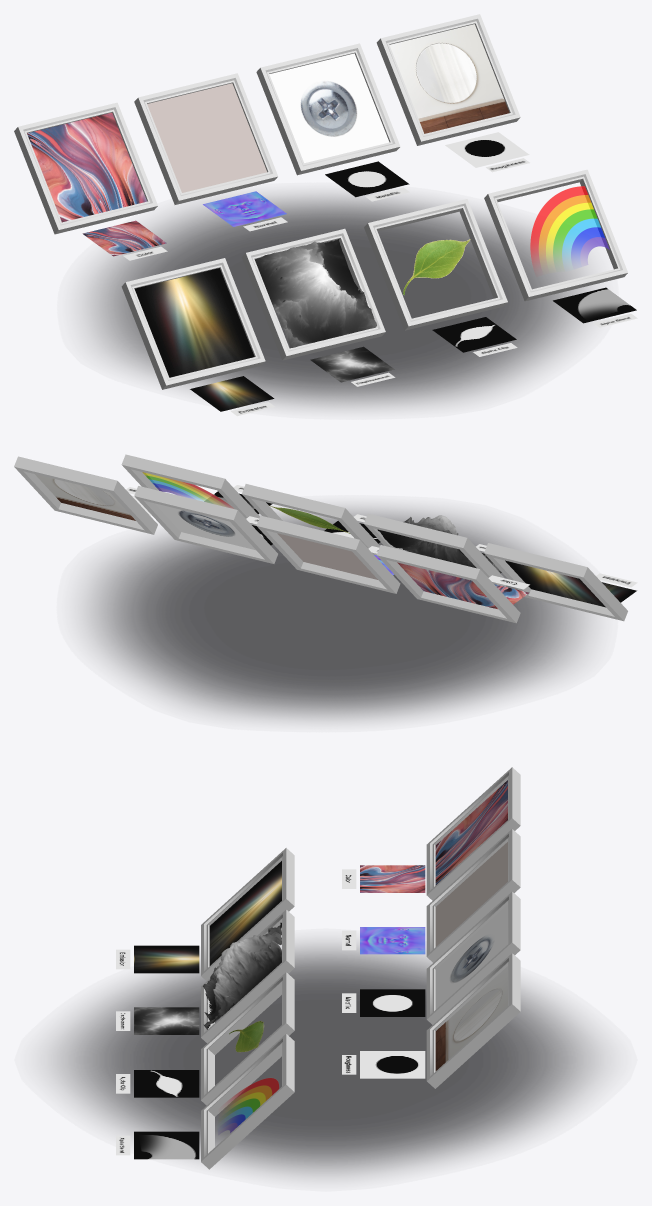
Rendered from mat_maps.glb.
3 views of the same model, one above another, from view 1: azimuth 30°, elevation 25°; view 2: azimuth 150°, elevation 25°; view 3: azimuth 270°, elevation 25° (orthographic). The views are drawn at different scales.
Visible parts, largest first — view 1: plane_shadow, displacement_matte, emission_matte, normal_matte, metallic_matte, roughness_matte, color_matte, frame1.006, frame1.007, alpha_blend_matte, frame1.004, frame1.001 (+13 smaller); view 2: plane_shadow, frame1, frame1.003, frame1.001, frame1.002, frame1.004, frame1.007, frame1.006, frame1.005, displacement_matte, metallic_matte, roughness_matte (+5 smaller); view 3: plane_shadow, frame1.007, displacement_matte, frame1.006, frame1.003, frame1.001, frame1, frame1.002, color_matte, metallic_matte, normal_matte, roughness_matte (+13 smaller).
Boxes of the visible parts, bbox=[...] form: plane_shadow: bbox=[84, 194, 590, 408]; displacement_matte: bbox=[254, 239, 376, 348]; emission_matte: bbox=[134, 268, 254, 377]; normal_matte: bbox=[147, 83, 266, 192]; metallic_matte: bbox=[269, 53, 389, 162]; roughness_matte: bbox=[389, 24, 509, 133]; color_matte: bbox=[27, 112, 146, 222]; frame1.006: bbox=[364, 199, 507, 330]; frame1.007: bbox=[484, 169, 627, 301]; alpha_blend_matte: bbox=[530, 186, 609, 266]; frame1.004: bbox=[121, 258, 265, 389]; frame1.001: bbox=[134, 73, 278, 204]; plane_shadow: bbox=[83, 506, 591, 720]; frame1: bbox=[376, 545, 520, 623]; frame1.003: bbox=[14, 456, 157, 534]; frame1.001: bbox=[256, 515, 400, 593]; frame1.002: bbox=[134, 486, 277, 563]; frame1.004: bbox=[484, 543, 627, 621]; frame1.007: bbox=[121, 454, 259, 525]; frame1.006: bbox=[242, 484, 379, 555]; frame1.005: bbox=[364, 513, 506, 586]; displacement_matte: bbox=[377, 515, 494, 568]; metallic_matte: bbox=[155, 503, 255, 550]; roughness_matte: bbox=[35, 474, 135, 520]; plane_shadow: bbox=[48, 943, 603, 1176]; frame1.007: bbox=[201, 1034, 294, 1169]; displacement_matte: bbox=[203, 922, 281, 1029]; frame1.006: bbox=[201, 972, 294, 1105]; frame1.003: bbox=[426, 953, 520, 1088]; frame1.001: bbox=[426, 829, 520, 962]; frame1: bbox=[426, 767, 520, 900]; frame1.002: bbox=[426, 891, 520, 1024]; color_matte: bbox=[435, 780, 507, 885]; metallic_matte: bbox=[435, 904, 507, 1009]; normal_matte: bbox=[435, 842, 507, 946]; roughness_matte: bbox=[435, 966, 507, 1070].
Bounding box in the file's own units: 364 × 112 × 364.
19 materials, 17 textured.
